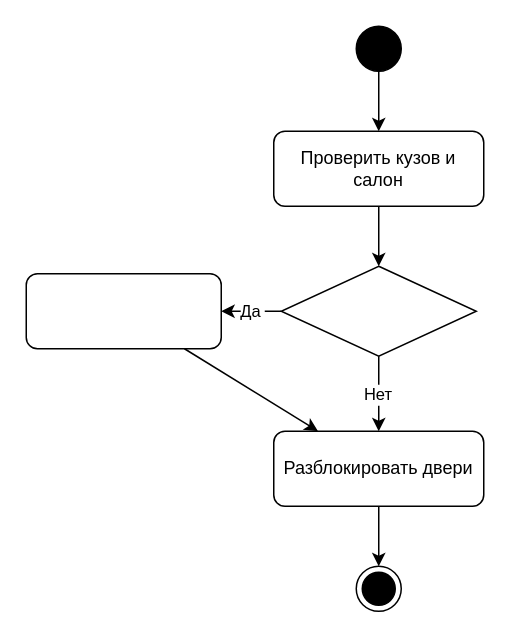
The diagram is 510 pixels wide and 638 high, and some of its shapes have lost their labels. Here are the shapes that lost their labels. From the top down, the box of each, then its label:
(25, 272, 221, 349): Сделать фото в приложении
(280, 265, 476, 356): Есть повреждения?
